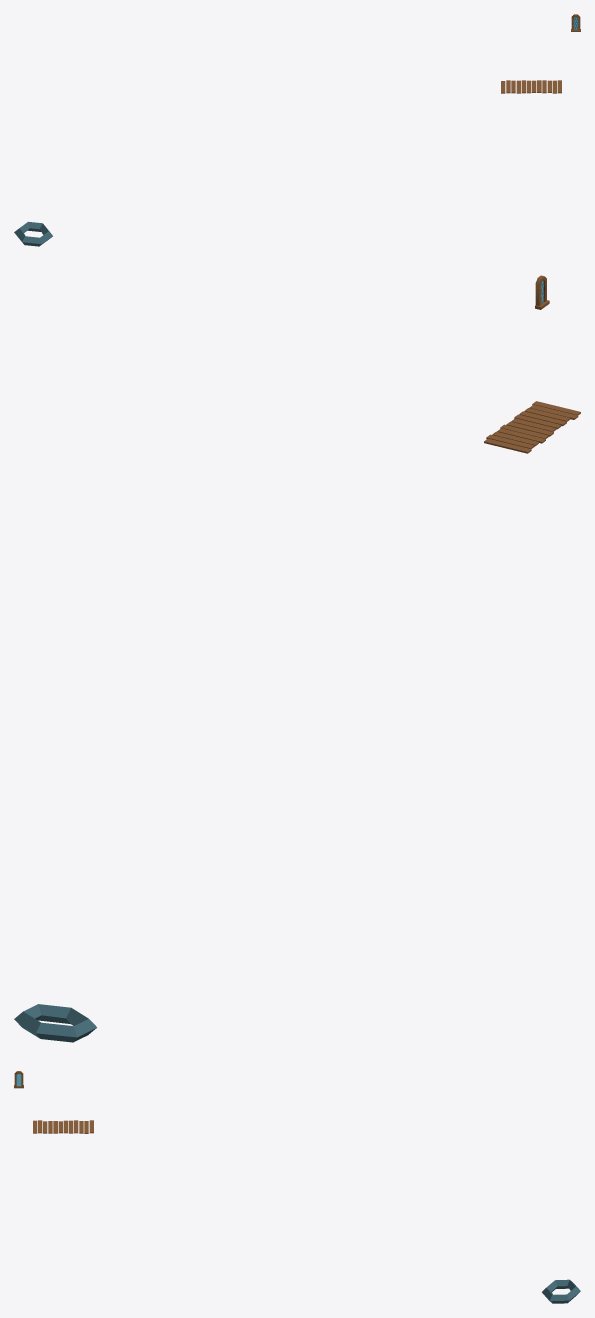
3 renders of one model, top to bottom at view 1: azimuth 90°, elevation 25°; view 2: azimuth 150°, elevation 25°; view 3: azimuth 270°, elevation 25°, orthographic. The views are drawn at different scales.
Visible parts, largest first — view 1: Plane368_brown_0, Torus079_metal_0; view 2: Plane368_brown_0, Torus079_metal_0; view 3: Plane368_brown_0, Torus079_metal_0.
Boxes of the visible parts, left/top/right/bottom form: Plane368_brown_0: left=501, top=80, right=561, bottom=93; Torus079_metal_0: left=14, top=221, right=52, bottom=246; Plane368_brown_0: left=484, top=401, right=580, bottom=453; Torus079_metal_0: left=14, top=1004, right=96, bottom=1042; Plane368_brown_0: left=33, top=1120, right=93, bottom=1133; Torus079_metal_0: left=542, top=1279, right=580, bottom=1303.
Bounding box in the file's own units: 470 × 2010 × 4588.
